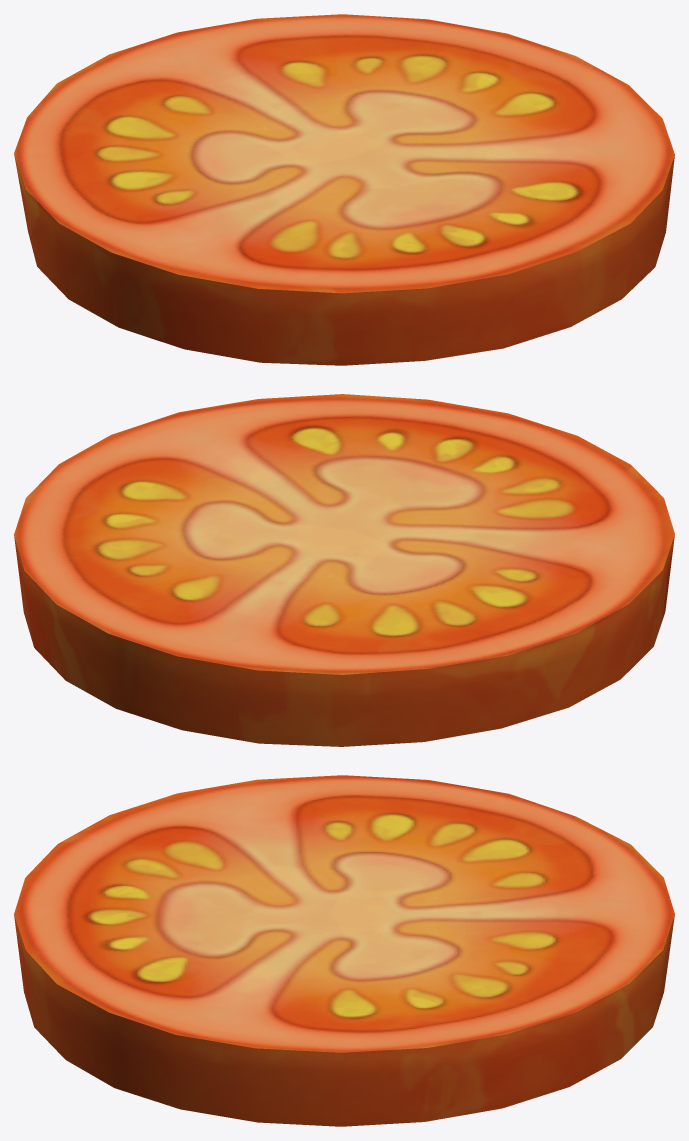
File: SM_TomatoSlice.glb
3 views of the same model, one above another, from view 1: azimuth 30°, elevation 25°; view 2: azimuth 150°, elevation 25°; view 3: azimuth 270°, elevation 25° (orthographic).
Parts seen in each view (by area): view 1: SM_TomatoSlice; view 2: SM_TomatoSlice; view 3: SM_TomatoSlice.
Part boxes in pixels (x1=…): SM_TomatoSlice: x1=14, y1=14, x2=674, y2=365; SM_TomatoSlice: x1=14, y1=394, x2=674, y2=746; SM_TomatoSlice: x1=14, y1=775, x2=674, y2=1126.
Bounding box in the file's own units: 0.1068 × 0.014 × 0.1074.
Materials: 1 (1 with a texture image).
